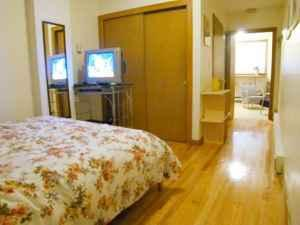Armario: (104, 17, 192, 138)
Cama: (2, 117, 175, 224)
